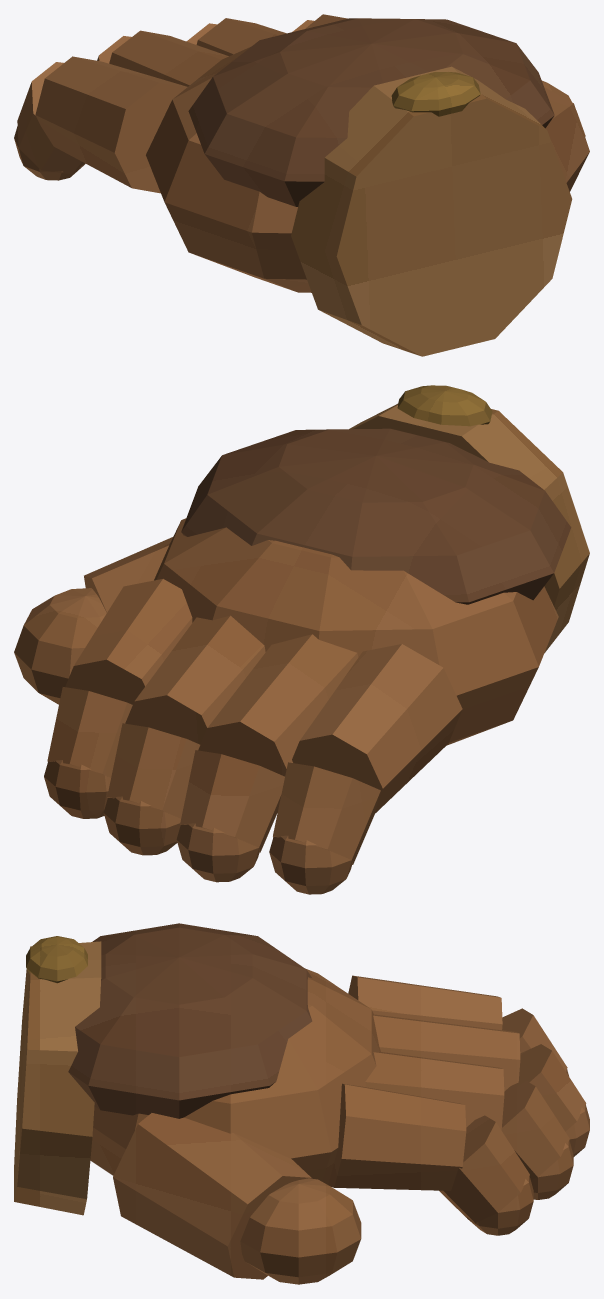
The model's file is LeftPalm.fbx.
The picture shows the model from 3 angles, top to bottom: view 1: azimuth 30°, elevation 25°; view 2: azimuth 150°, elevation 25°; view 3: azimuth 270°, elevation 25°; orthographic projection. The views are drawn at different scales.
Visible parts, largest first — view 1: Set; view 2: Set; view 3: Set.
Boxes of the visible parts, x1,y1,x2,y2 form: Set: (14, 14, 589, 356); Set: (14, 385, 589, 894); Set: (14, 923, 589, 1284).
Bounding box in the file's own units: 20.9 × 11.9 × 24.57.
